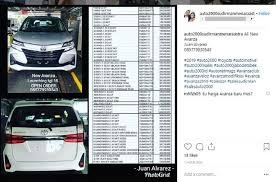mobil: (5, 101, 87, 180), (10, 17, 77, 78)
